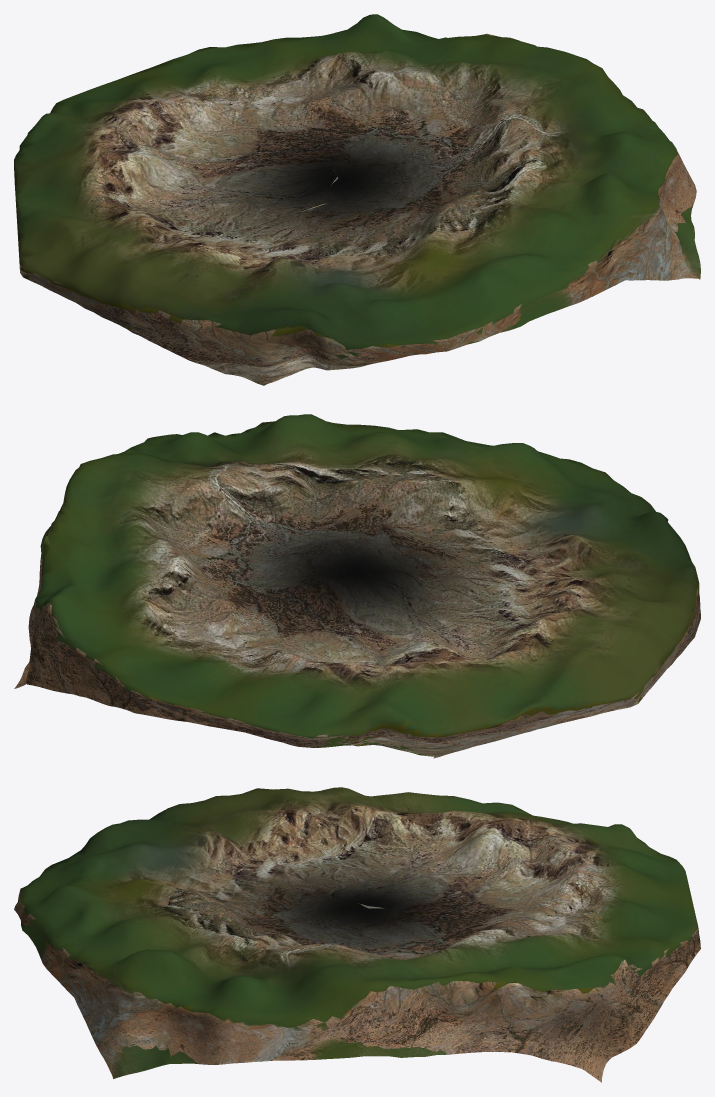
File: ters.glb
The picture shows the model from 3 angles, top to bottom: view 1: azimuth 30°, elevation 25°; view 2: azimuth 150°, elevation 25°; view 3: azimuth 270°, elevation 25°; orthographic projection. The views are drawn at different scales.
Parts seen in each view (by area): view 1: Object_2; view 2: Object_2; view 3: Object_2.
Boxes of the visible parts, bbox=[...] form: Object_2: bbox=[14, 14, 700, 385]; Object_2: bbox=[14, 414, 700, 758]; Object_2: bbox=[14, 787, 700, 1082].
Size of the model in its own units: 27.63 by 5.56 by 28.54.
1 material, 1 textured.
